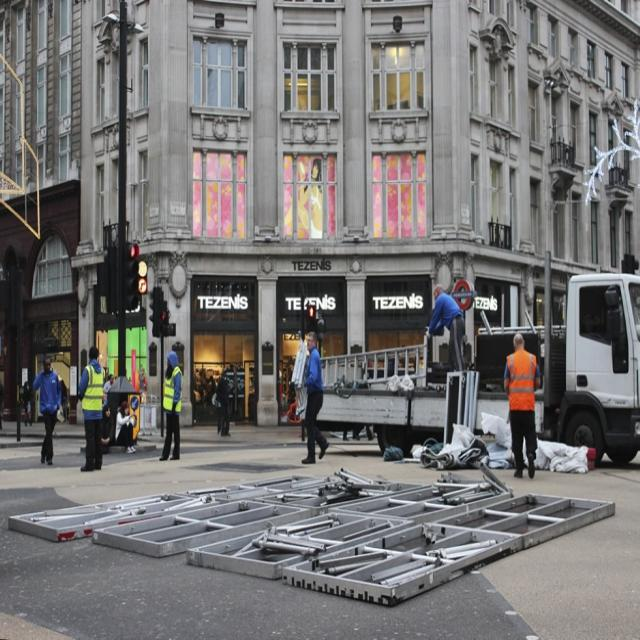body: (502, 331, 542, 482), (280, 152, 328, 246), (76, 343, 108, 472), (300, 328, 330, 465), (133, 362, 223, 406), (424, 284, 467, 374), (30, 352, 63, 467), (158, 349, 184, 464), (114, 398, 138, 456), (215, 367, 230, 438), (342, 415, 373, 444), (211, 376, 224, 437), (100, 403, 115, 454), (21, 381, 34, 428), (58, 378, 69, 426), (102, 372, 115, 405)
